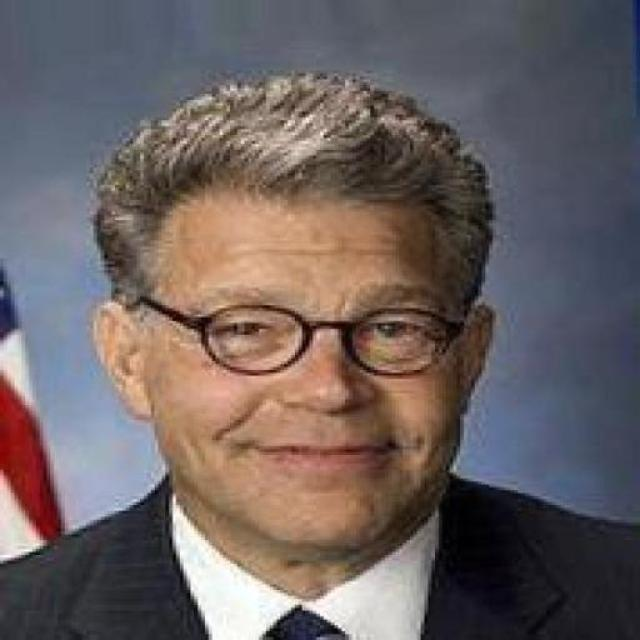bareface: (144, 119, 445, 520)
